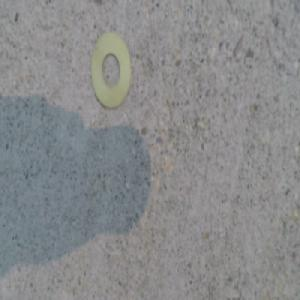Washer: (86, 35, 129, 113)
